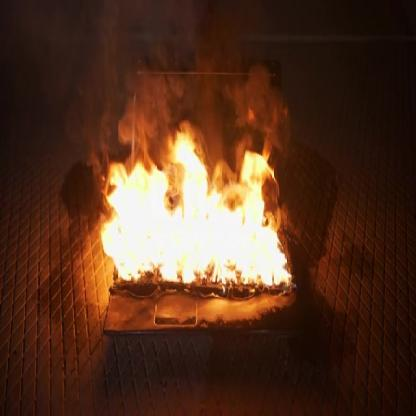fire: (97, 139, 295, 294)
smoke: (0, 0, 301, 213)
